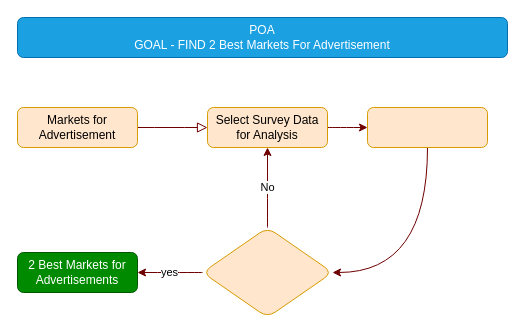
The diagram is 525 pixels wide and 335 high, and some of its shapes have lost their labels. The centre of each missing label's shape, as x and y in pixels:
"Analyse Data" belongs at pixel 427 127.
"Data report valid for choice ?" belongs at pixel 267 272.
